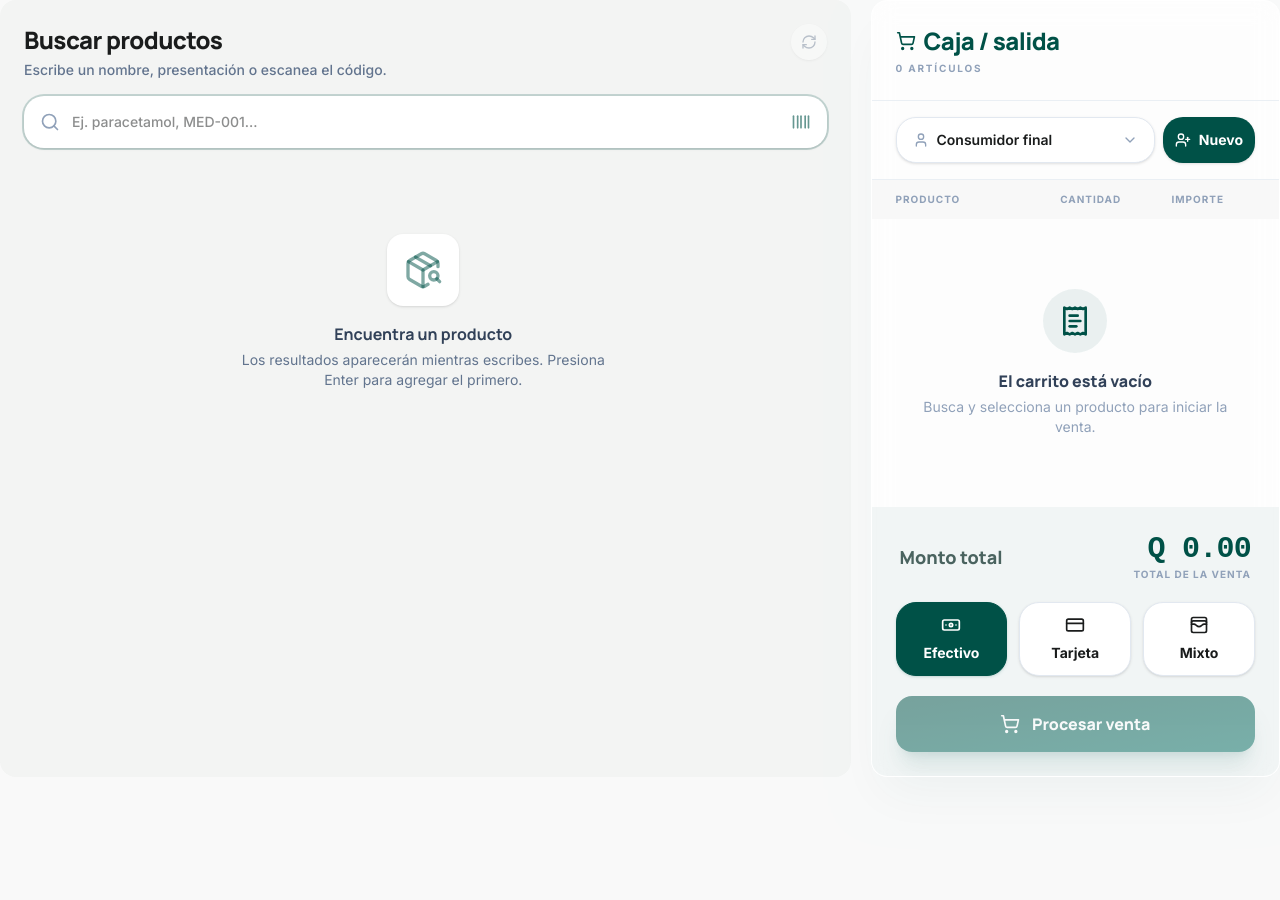
Test case: PuntoVenta › permite agregar y seleccionar un cliente nuevo sin salir del punto de venta
This screenshot has width=1280, height=900.
Click the button with aria-label "Agregar cliente" at [1209, 140], box [1163,117,1255,163]
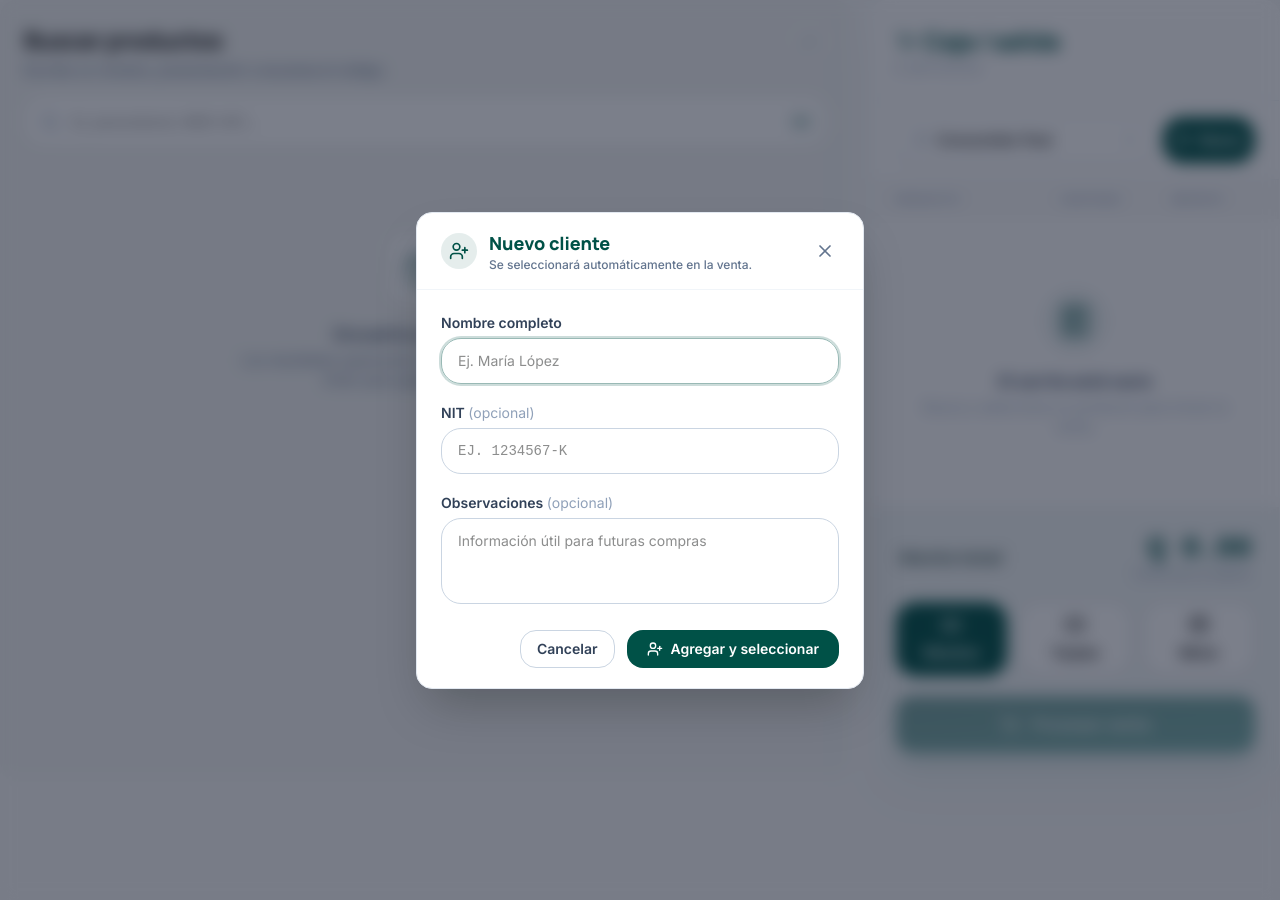
Expected: the dialog "Nuevo cliente" is shown, [416,212,864,688]
Type "  Ana Pérez  " into the field labelled "Nombre completo" at [640, 360], box [441,338,839,384]
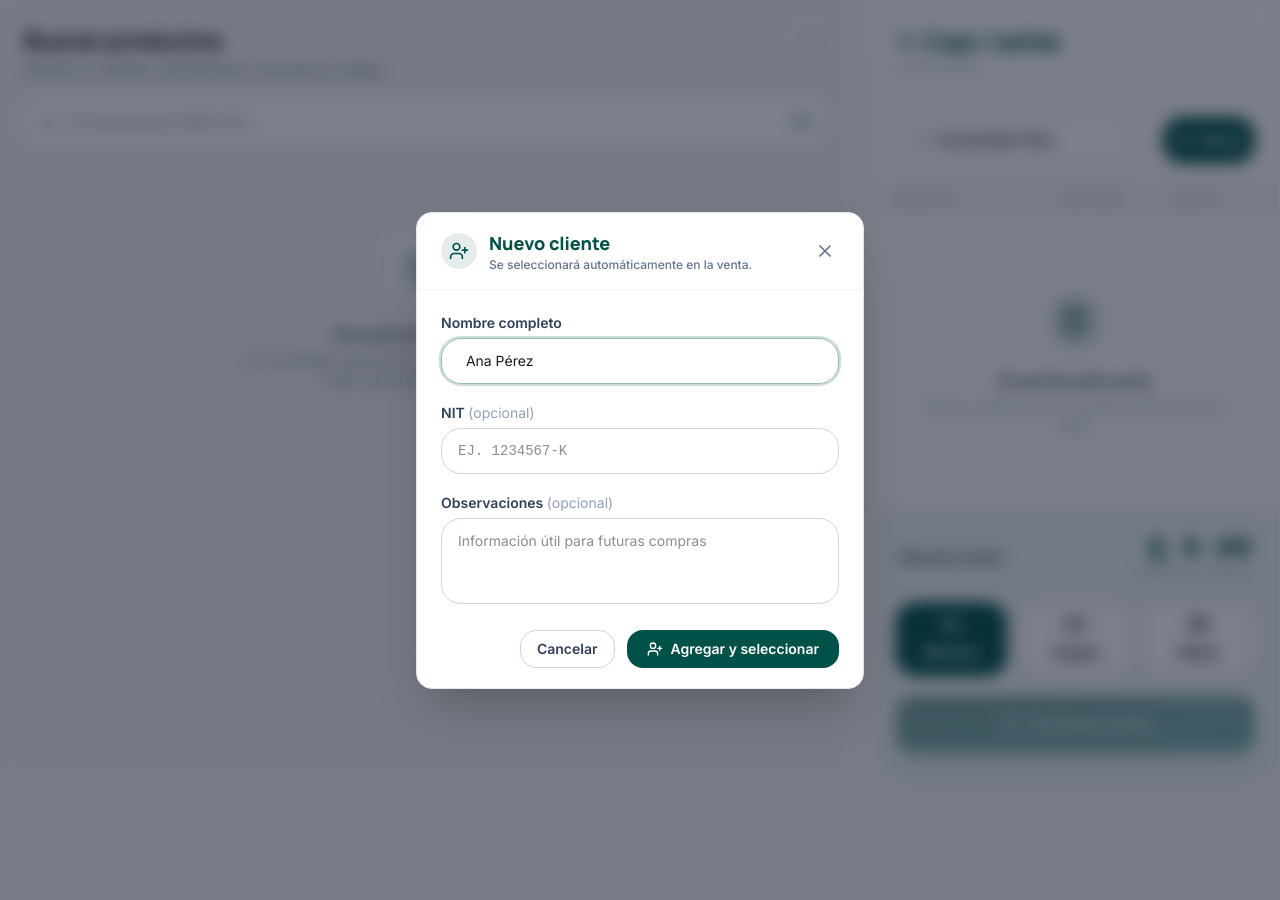
Click the button "Agregar y seleccionar" at [733, 648], box [626,630,839,668]
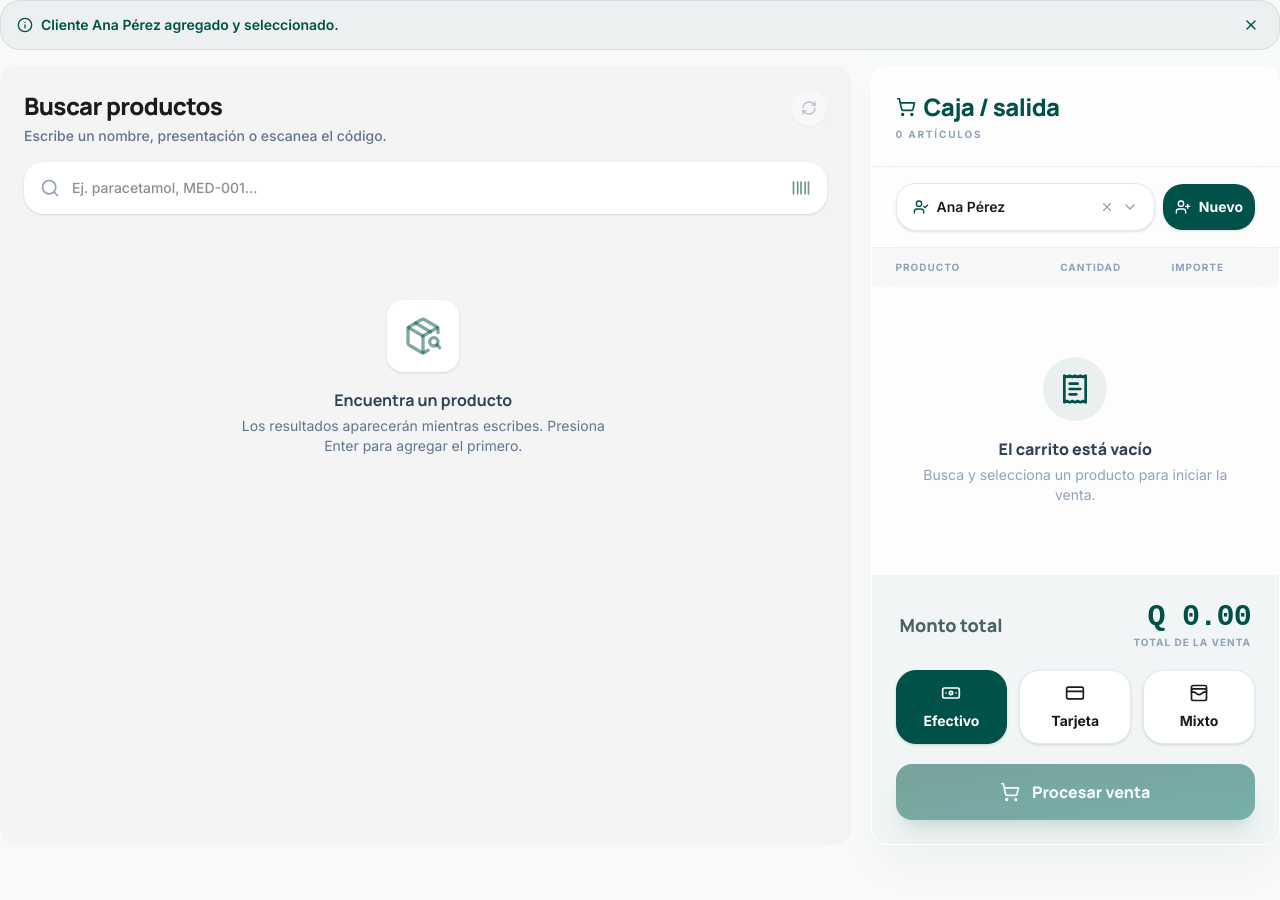
Expected: the heading "Nuevo cliente" is gone
Expected: the text "Ana Pérez" is shown, [936,197,1005,217]
